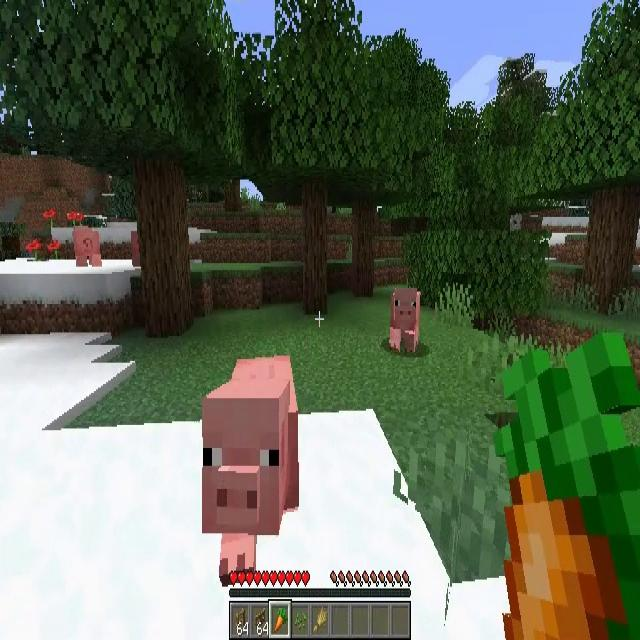pig: (202, 356, 299, 588), (388, 288, 420, 350), (73, 226, 102, 268)
